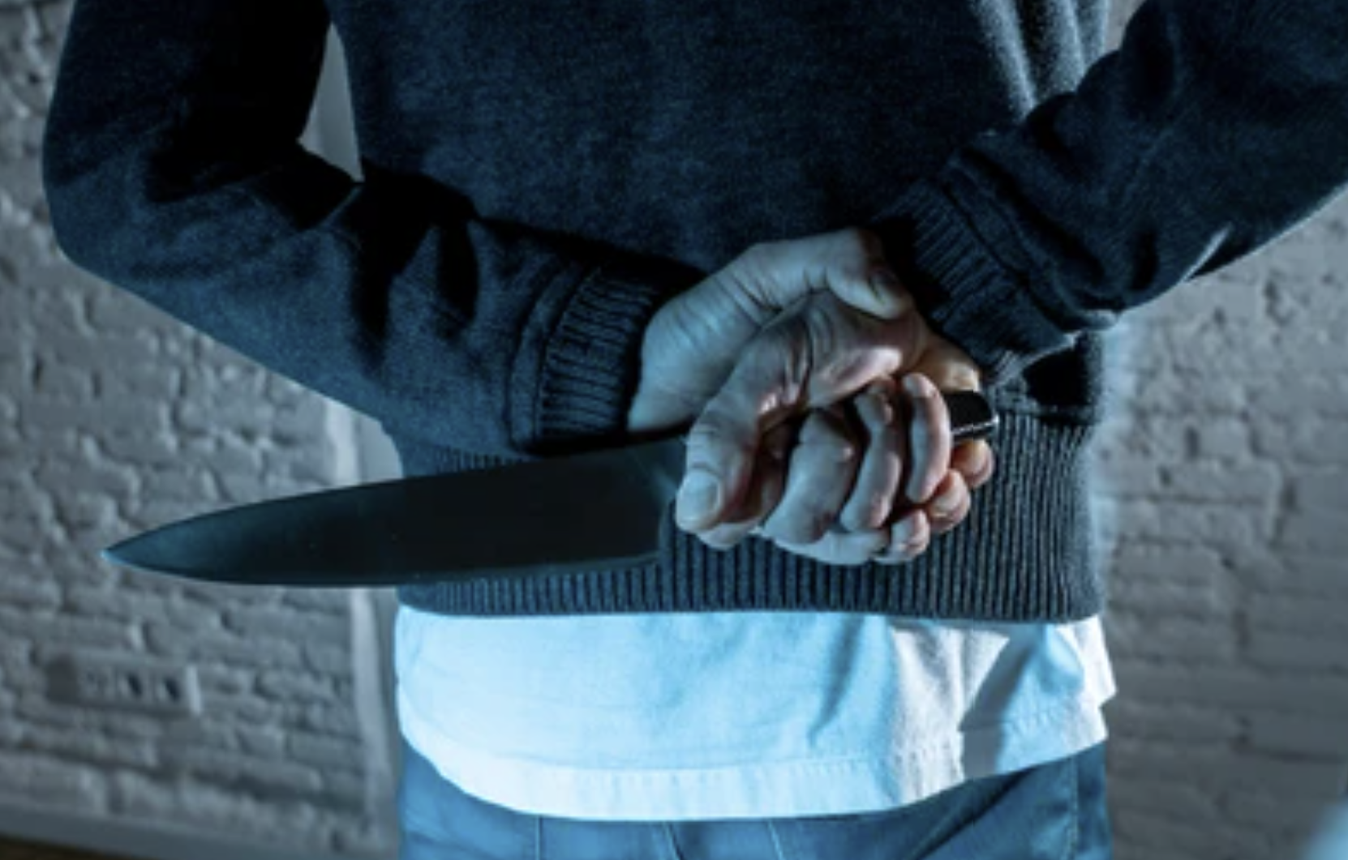knife_43.png: (92, 370, 1054, 634)
